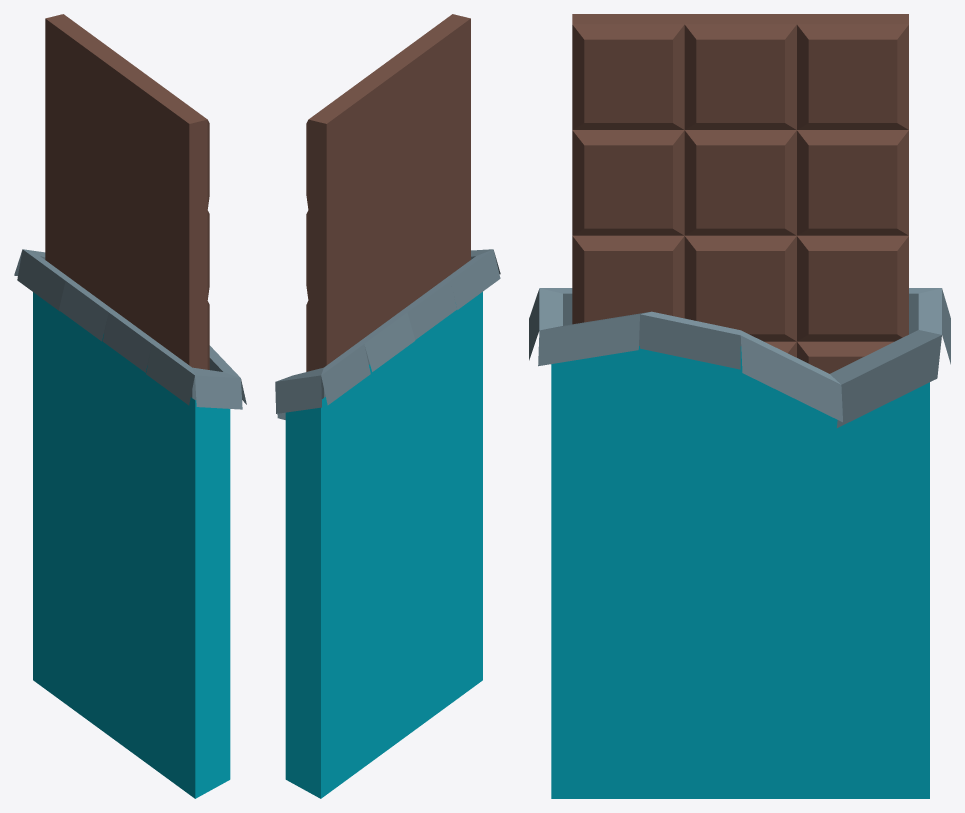
The model's file is choco.obj.
3 renders of one model, left to right at view 1: azimuth 30°, elevation 25°; view 2: azimuth 150°, elevation 25°; view 3: azimuth 270°, elevation 25°, orthographic. The views are drawn at different scales.
Visible parts, largest first — view 1: Cube.024_Cube.025; view 2: Cube.024_Cube.025; view 3: Cube.024_Cube.025.
Boxes of the visible parts, x1,y1,x2,y2 form: Cube.024_Cube.025: [14, 14, 246, 798]; Cube.024_Cube.025: [275, 14, 500, 798]; Cube.024_Cube.025: [529, 14, 950, 798].
Size of the model in its own units: 0.9508 by 10.06 by 4.94.
